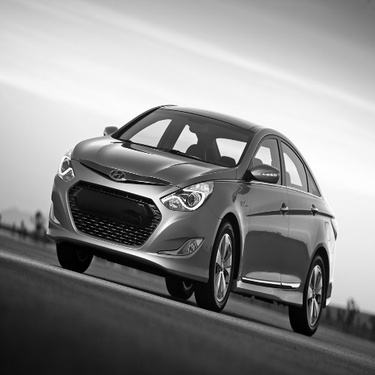car: (43, 99, 340, 338)
